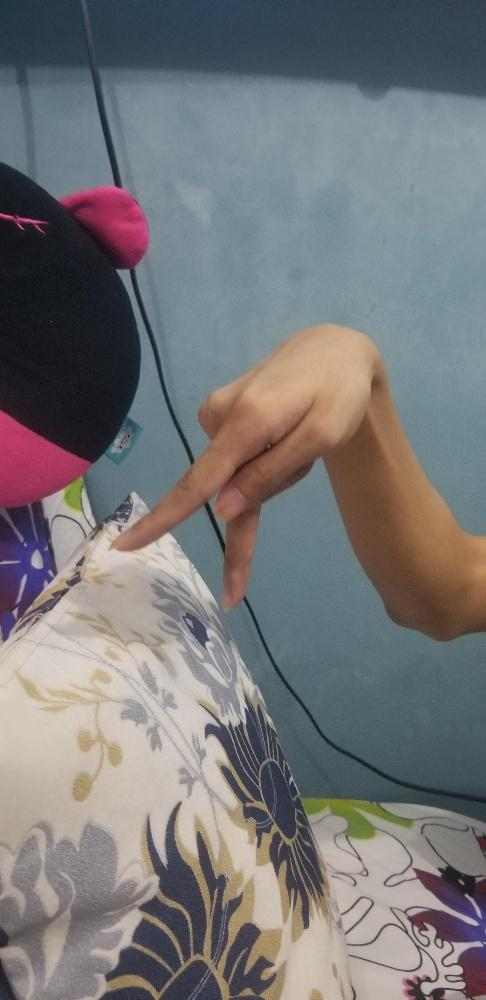p: (111, 320, 385, 609)
